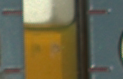border: (85, 66, 113, 74), (0, 9, 25, 17), (85, 8, 110, 16), (1, 67, 24, 75)
liquidlevel: (22, 19, 78, 37)
